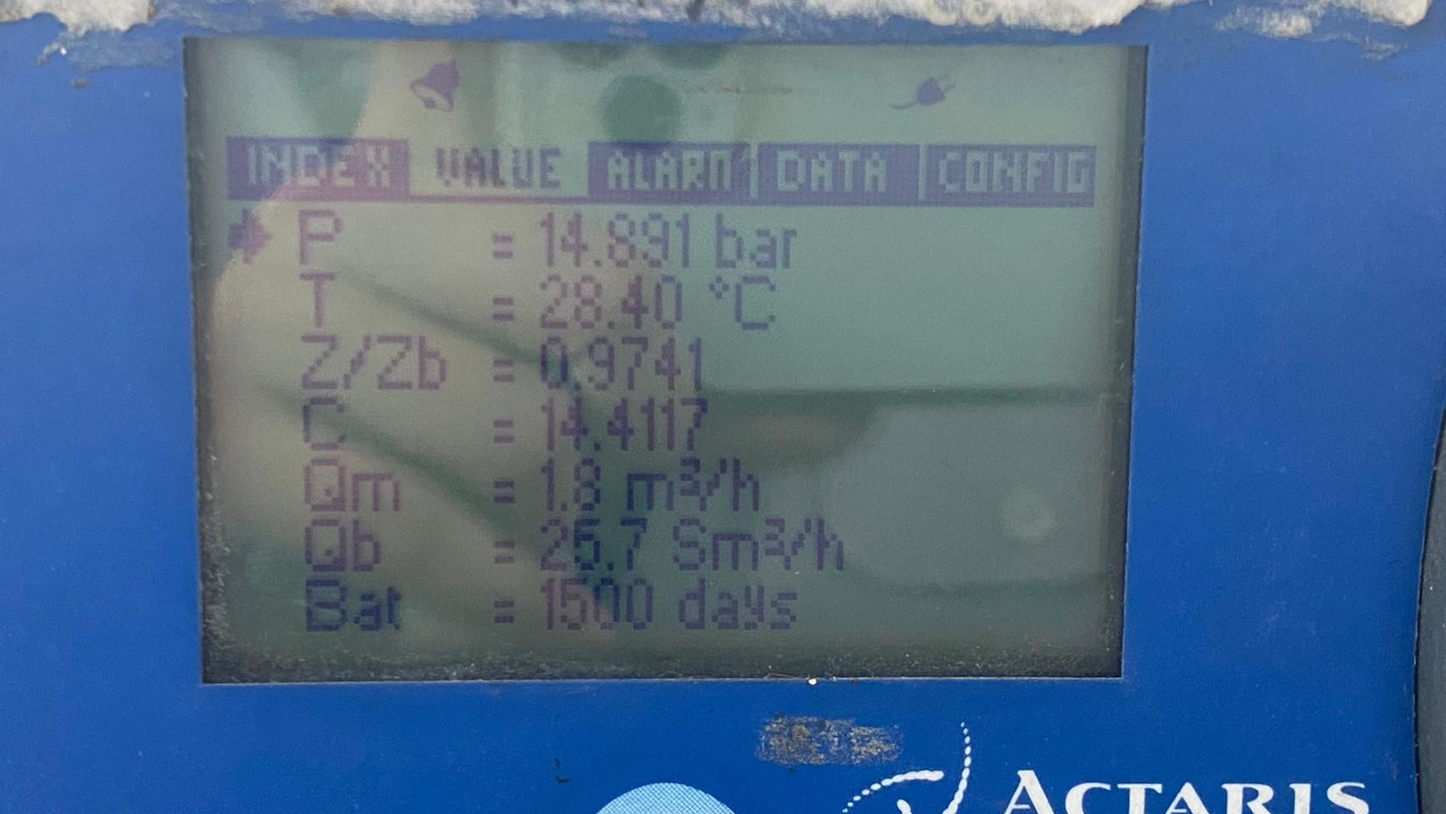digital_screen: (184, 38, 1148, 686)
